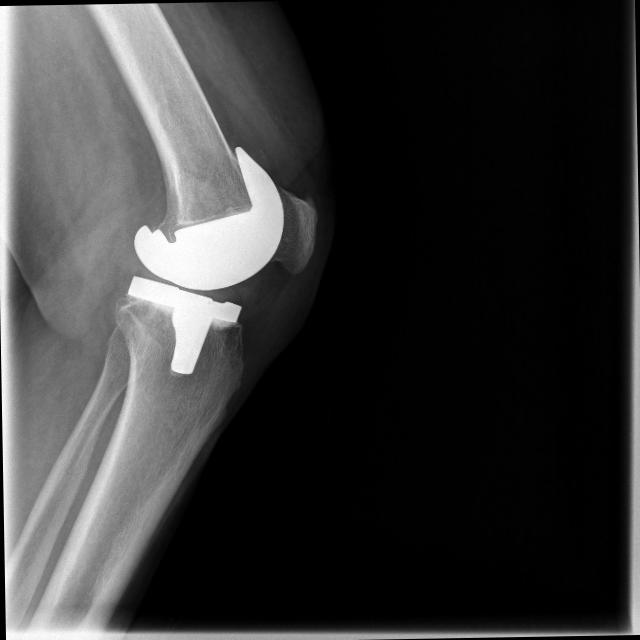Knee: (104, 140, 325, 378)
